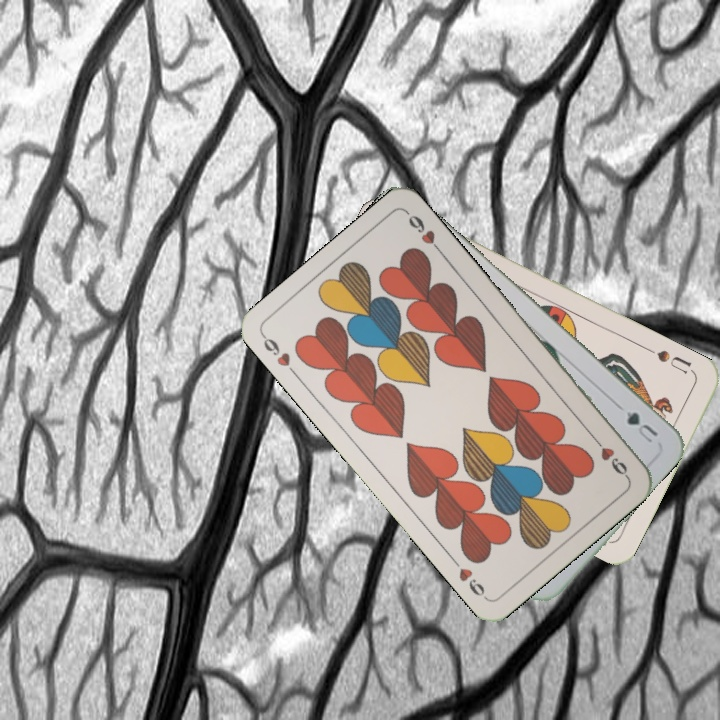GU: (620, 407, 661, 446)
H9: (258, 330, 301, 380), (588, 432, 631, 481)
SU: (643, 344, 698, 377)
